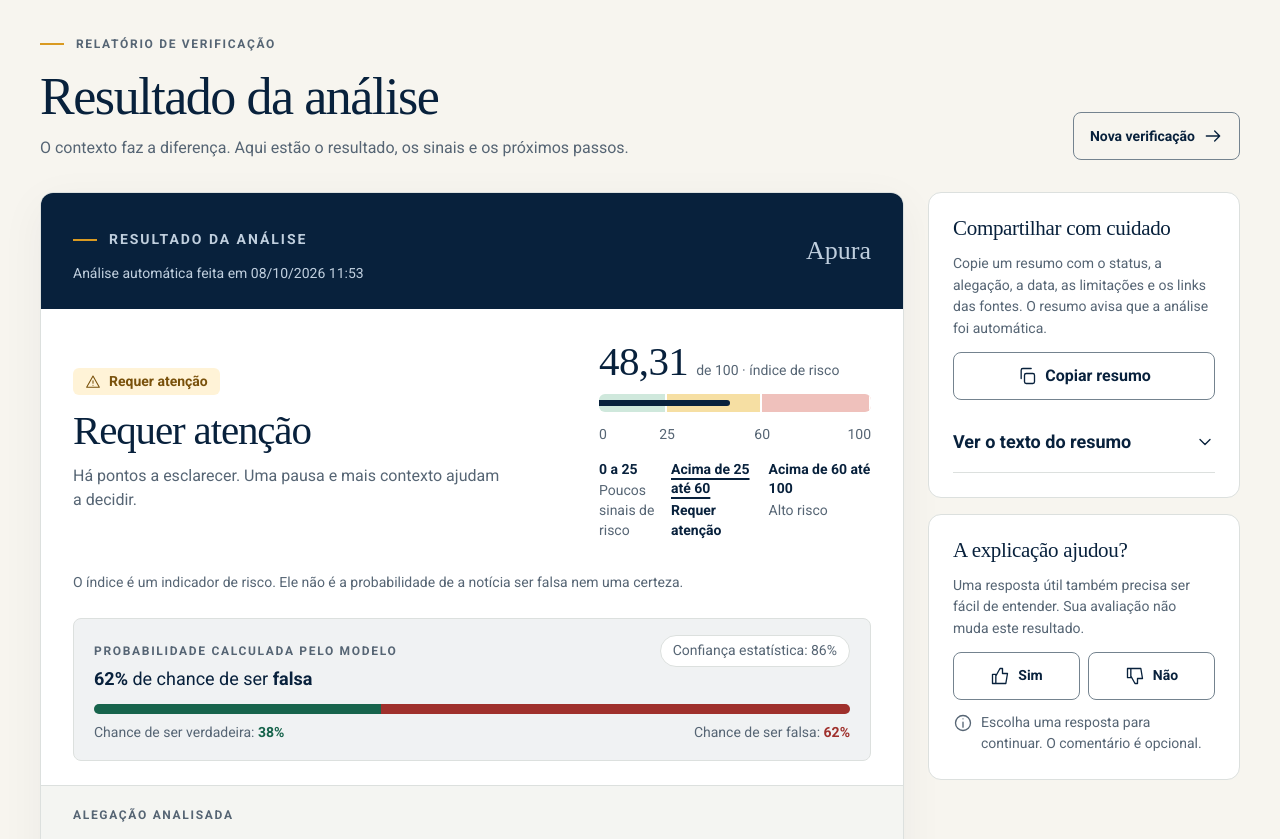
Test: RF19: feedback › versão de demonstração: diz, antes do envio, que nada é enviado nem guardado
Click the button "Sim" at {"x": 1016, "y": 676}, box left=953, top=652, right=1080, bottom=700
(page scrolled)
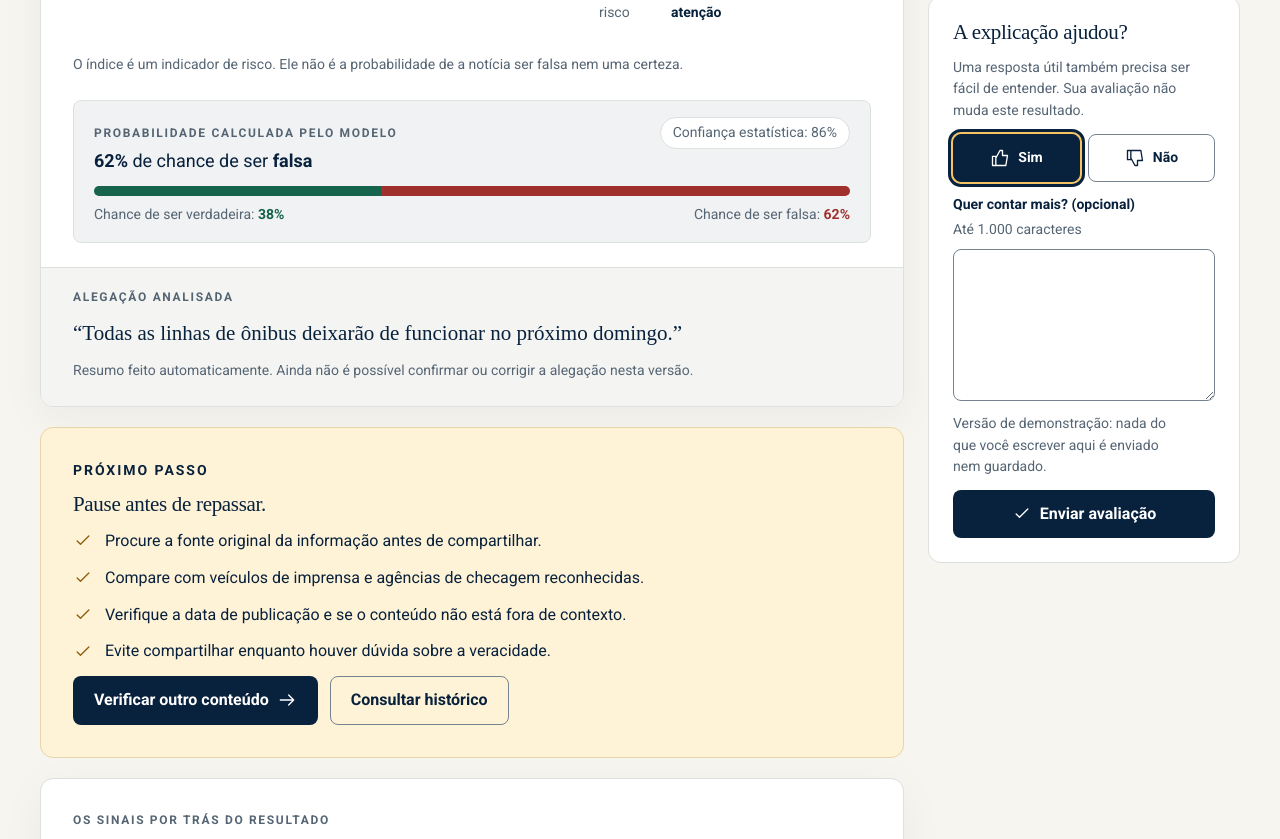
Expected: the text "Versão de demonstração: nada do que você escrever aqui é enviado nem guardado." is shown, left=953, top=415, right=1166, bottom=474
